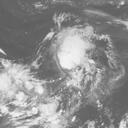cyclone: (52, 26, 104, 73)
